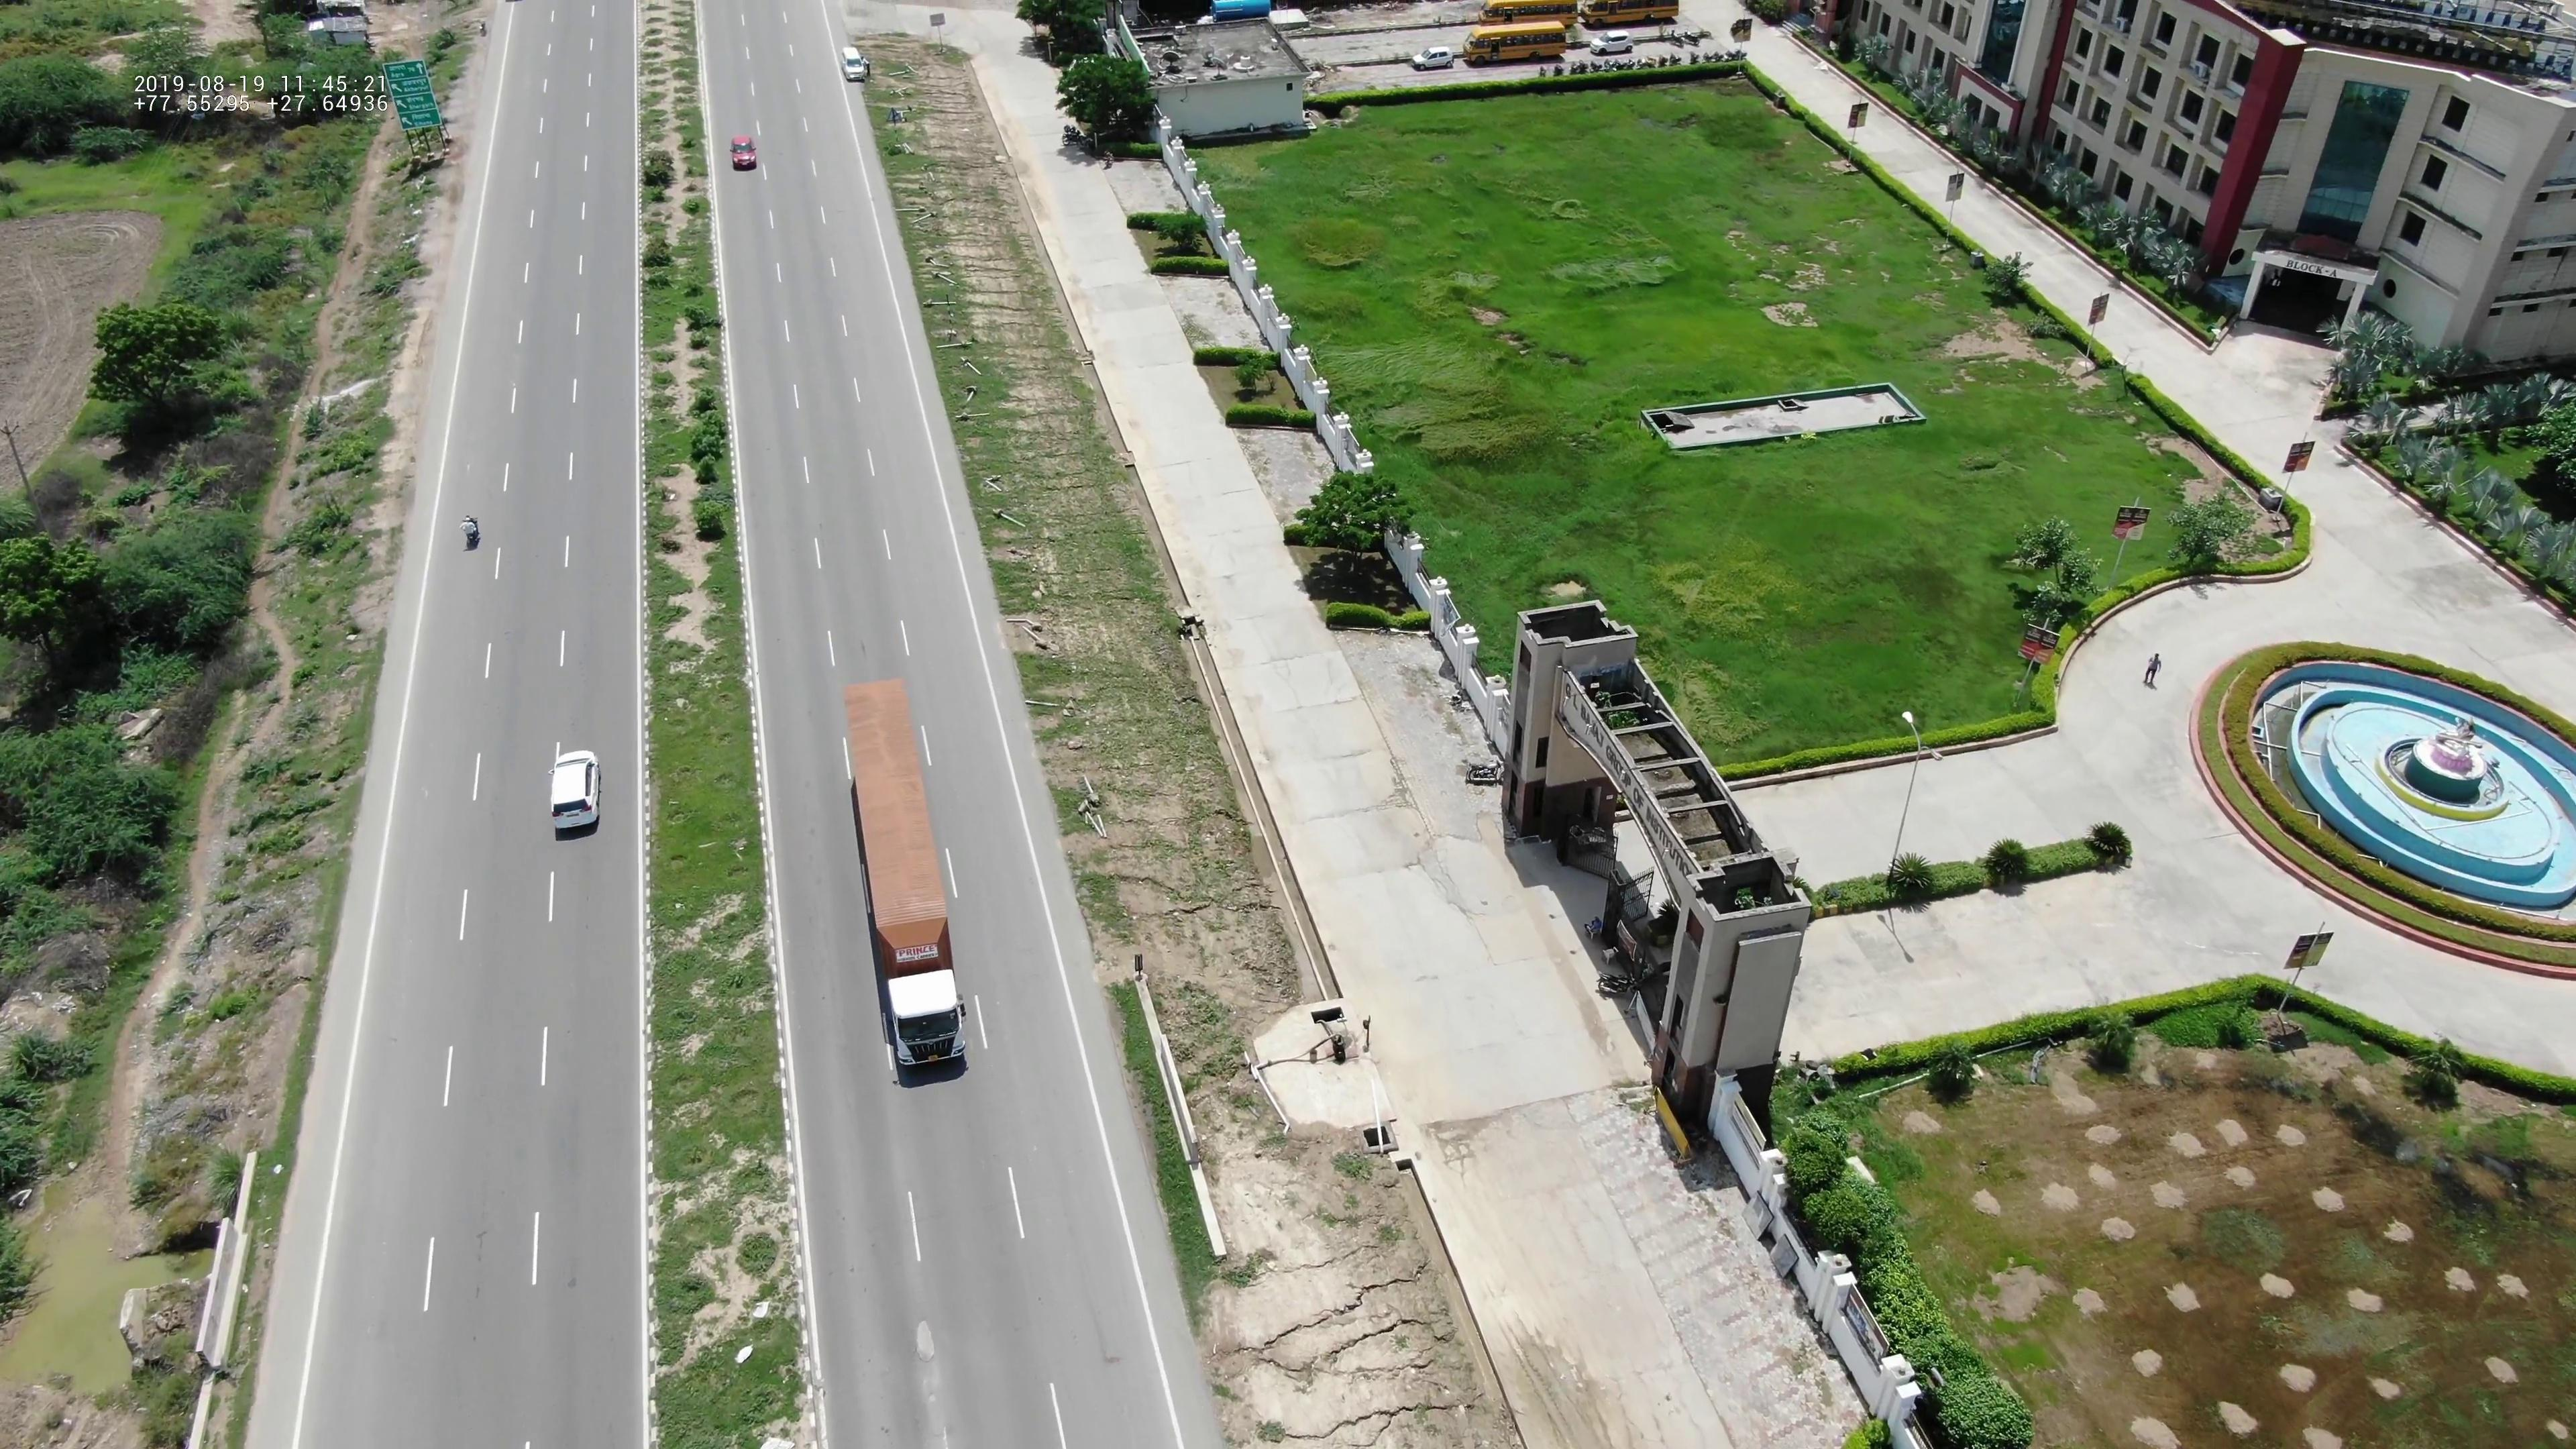Potholes: (863, 1288, 975, 1389)
